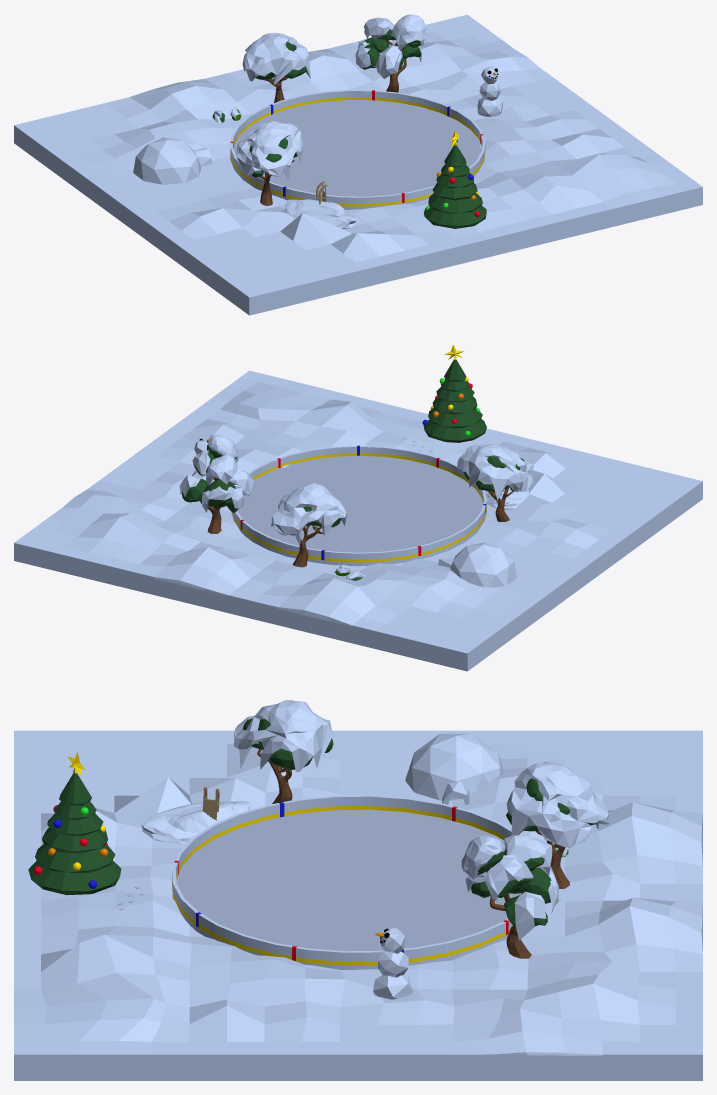
Rendered from winter-arena.fbx.
The picture shows the model from 3 angles, top to bottom: view 1: azimuth 30°, elevation 25°; view 2: azimuth 150°, elevation 25°; view 3: azimuth 270°, elevation 25°; orthographic projection. The views are drawn at different scales.
Visible parts, largest first — view 1: arena; view 2: arena; view 3: arena.
Boxes of the visible parts, <box> form: arena: <box>14,14,702,315</box>; arena: <box>14,345,702,671</box>; arena: <box>14,700,702,1080</box>.
Bounding box in the file's own units: 5273 × 1279 × 4742.
Materials: 13 (1 with a texture image).
